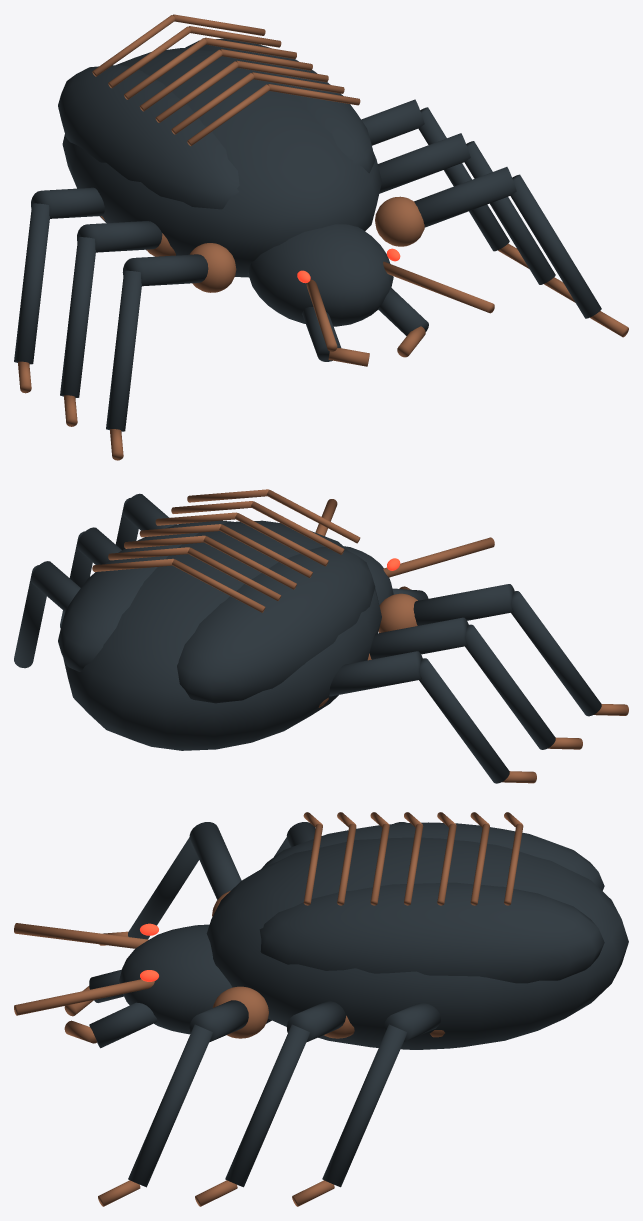
Rendered from beetle.glb.
3 renders of one model, top to bottom at view 1: azimuth 30°, elevation 25°; view 2: azimuth 150°, elevation 25°; view 3: azimuth 270°, elevation 25°, orthographic. The views are drawn at different scales.
Parts seen in each view (by area): view 1: body_shell.003, body_copper.004, leg0R_shell.003, leg0L_shell.003, leg1L_shell.003, leg1R_shell.003, leg2L_shell.003, leg2R_shell.003, leg0R_copper.003, leg0L_copper.003, leg1L_copper.003; view 2: body_shell.003, body_copper.004, leg0L_shell.003, leg1L_shell.003, leg2L_shell.003, leg2R_shell.003, leg1R_shell.003, leg0R_shell.003, leg0L_copper.003; view 3: body_shell.003, body_copper.004, leg0R_shell.003, leg1R_shell.003, leg2R_shell.003, leg0L_shell.003, leg0R_copper.003, leg1R_copper.003, leg1L_shell.003, leg2R_copper.003.
Boxes of the visible parts, x1,y1,x2,y2 form: body_shell.003: (58,38,428,361); body_copper.004: (92,14,494,366); leg0R_shell.003: (414,167,601,318); leg0L_shell.003: (106,254,208,431); leg1L_shell.003: (60,221,162,397); leg1R_shell.003: (378,133,555,284); leg2L_shell.003: (14,187,104,364); leg2R_shell.003: (361,99,509,251); leg0R_copper.003: (375,196,628,337); leg0L_copper.003: (110,243,236,460); leg1L_copper.003: (64,233,175,426); body_shell.003: (58,520,428,750); body_copper.004: (92,489,494,612); leg0L_shell.003: (413,584,601,716); leg1L_shell.003: (369,617,555,749); leg2L_shell.003: (329,651,509,783); leg2R_shell.003: (14,561,80,668); leg1R_shell.003: (60,527,121,628); leg0R_shell.003: (115,493,176,549); leg0L_copper.003: (378,593,628,715); body_shell.003: (89,822,628,1049); body_copper.004: (14,812,523,1043); leg0R_shell.003: (128,1000,248,1187); leg1R_shell.003: (225,1001,345,1187); leg2R_shell.003: (322,1003,440,1187); leg0L_shell.003: (128,822,241,939); leg0R_copper.003: (98,986,268,1206); leg1R_copper.003: (195,1015,354,1206); leg1L_shell.003: (274,822,315,856); leg2R_copper.003: (292,1030,444,1206).
Size of the model in its own units: 1.04 by 0.4593 by 1.01.
